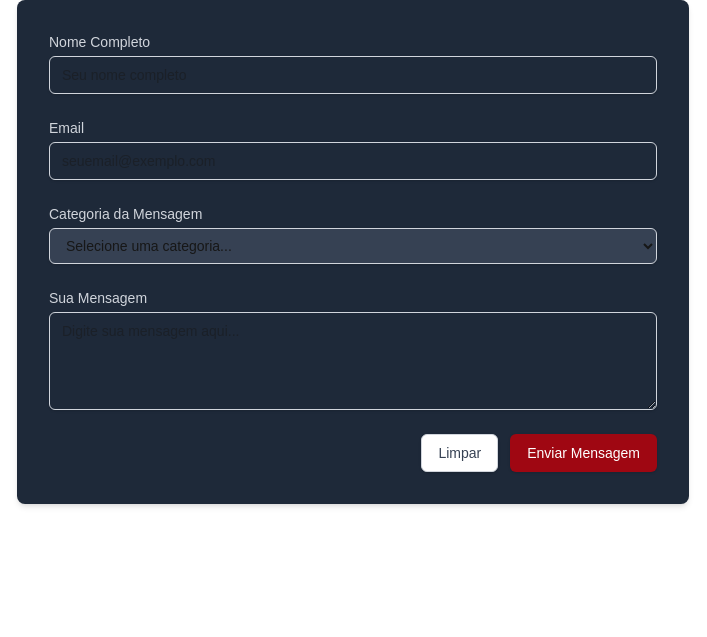
Scenario: FormContato Component › Validação de Erros › deve exibir erro de validação para nome muito curto
This screenshot has width=707, height=637.
Step 1. Type "ab" into the field labelled "Nome Completo" → (353, 75), box top-left (49, 56), bottom-right (657, 94)
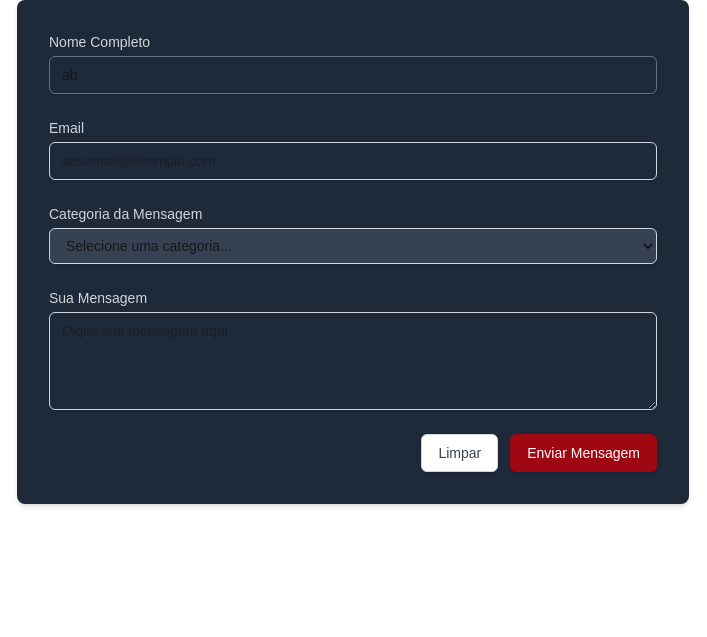
Step 2. Click the button "Enviar Mensagem" → (584, 453), box top-left (510, 434), bottom-right (657, 472)
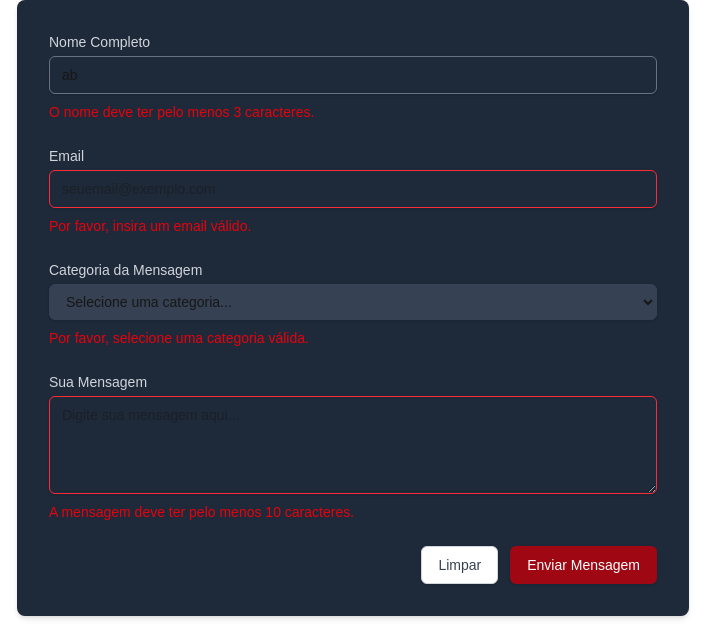
expect the text "O nome deve ter pelo menos 3 caracteres." is shown: met, box top-left (49, 104), bottom-right (314, 120)
